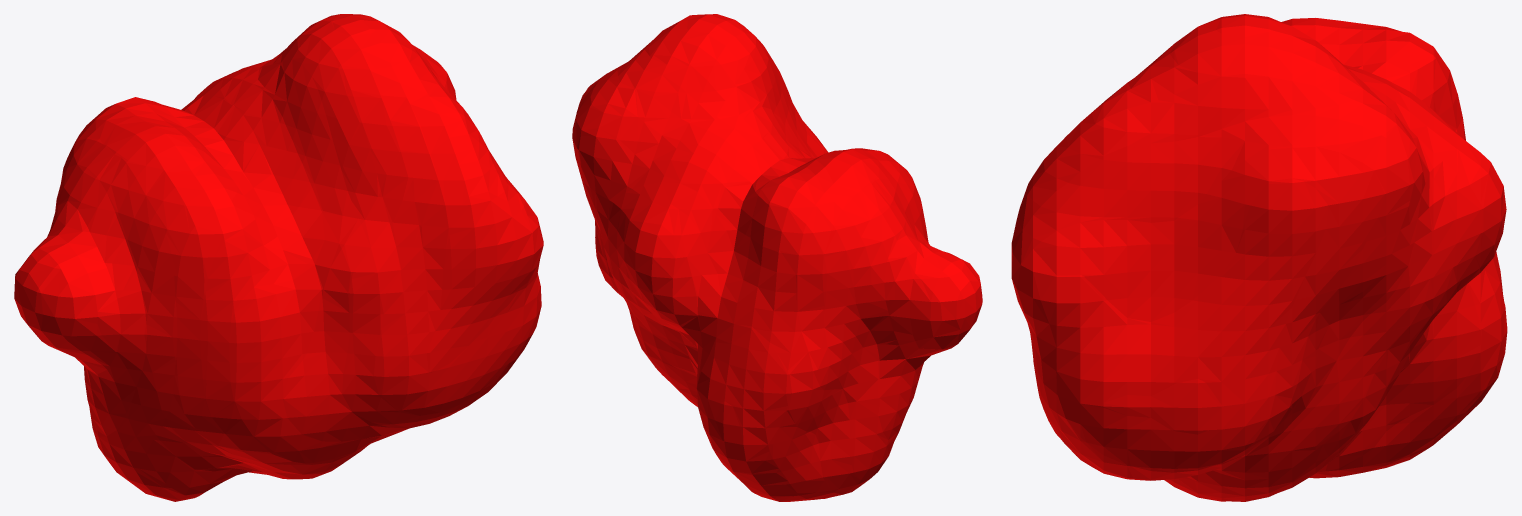
File: ftsL_coarse.dae
3 views of the same model, side by side, from view 1: azimuth 30°, elevation 25°; view 2: azimuth 150°, elevation 25°; view 3: azimuth 270°, elevation 25° (orthographic). The views are drawn at different scales.
Visible parts, largest first — view 1: ftsL; view 2: ftsL; view 3: ftsL.
Part boxes in pixels (x1,y1,x2,y2): ftsL: [14, 14, 543, 501]; ftsL: [572, 14, 982, 501]; ftsL: [1011, 14, 1507, 501].
Bounding box in the file's own units: 43.47 × 42.75 × 35.7.
